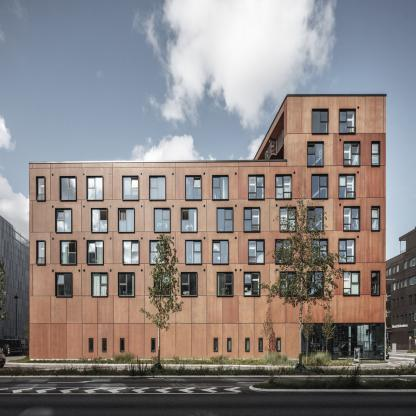Building Outline: (29, 94, 387, 360)
Dont: (256, 171, 351, 374), (139, 233, 184, 373), (302, 302, 336, 367), (259, 307, 287, 366)
Facade: (29, 159, 386, 360)
Floor: (29, 270, 386, 308), (29, 172, 386, 203), (29, 237, 386, 267), (29, 206, 386, 234), (287, 94, 386, 135), (287, 139, 386, 168)
Floor Slab: (29, 202, 386, 206), (29, 168, 386, 172), (29, 308, 386, 311), (29, 267, 386, 270), (29, 234, 386, 237), (287, 135, 386, 139)
Glass Wall: (302, 323, 385, 361)
Ground Floor: (29, 311, 386, 360)
Window: (312, 110, 328, 133), (340, 110, 356, 133), (244, 209, 260, 231), (217, 209, 233, 231), (181, 209, 197, 231), (154, 209, 170, 231), (118, 209, 134, 231), (91, 209, 107, 231), (249, 176, 265, 198), (340, 176, 356, 198), (276, 176, 292, 198), (312, 176, 328, 198), (308, 143, 324, 165), (344, 143, 360, 165), (88, 241, 103, 264), (124, 241, 139, 264), (280, 208, 295, 231), (56, 209, 71, 232), (61, 242, 76, 264), (151, 241, 166, 263), (186, 241, 201, 263), (214, 241, 229, 263), (249, 241, 264, 263), (344, 273, 359, 295), (312, 241, 327, 263), (339, 241, 354, 263), (344, 208, 359, 230), (308, 208, 323, 230), (217, 209, 232, 231), (123, 177, 138, 199), (150, 177, 165, 199), (186, 177, 201, 199), (213, 177, 228, 199), (276, 241, 291, 263), (280, 273, 295, 295), (308, 273, 323, 295), (61, 178, 75, 200), (88, 178, 102, 200), (57, 274, 71, 296), (93, 274, 107, 296), (120, 274, 134, 296), (156, 274, 170, 296), (183, 274, 197, 296), (219, 273, 233, 295), (246, 273, 260, 295), (38, 242, 45, 264), (37, 178, 44, 200), (372, 273, 379, 295), (372, 143, 379, 165), (372, 208, 379, 230), (276, 338, 281, 352), (245, 338, 250, 352), (151, 338, 156, 352), (120, 338, 125, 352), (102, 338, 107, 352), (89, 338, 93, 352), (259, 338, 263, 352), (227, 338, 231, 352), (214, 338, 218, 352)
Window Hole: (60, 240, 76, 264), (87, 240, 103, 264), (123, 240, 139, 264), (150, 240, 166, 264), (185, 240, 201, 264), (340, 174, 356, 198), (249, 240, 265, 264), (344, 272, 360, 296), (312, 240, 328, 264), (339, 240, 355, 264), (344, 207, 360, 231), (307, 207, 323, 231), (280, 207, 296, 231), (244, 208, 260, 232), (217, 208, 233, 232), (181, 208, 197, 232), (154, 208, 170, 232), (55, 208, 71, 232), (60, 176, 76, 200), (185, 175, 201, 199), (212, 175, 228, 199), (312, 174, 328, 198), (312, 109, 328, 133), (308, 142, 324, 166), (344, 142, 360, 166), (340, 109, 356, 133), (181, 272, 197, 296), (217, 272, 233, 296), (244, 272, 260, 296), (276, 240, 292, 264), (280, 272, 296, 296), (308, 272, 324, 296), (213, 240, 229, 263), (118, 208, 134, 231), (91, 208, 107, 231), (249, 175, 265, 198), (86, 176, 102, 199), (122, 176, 138, 199), (149, 176, 165, 199), (276, 175, 292, 198), (55, 273, 71, 296), (91, 273, 107, 296), (118, 273, 134, 296), (154, 273, 170, 296), (36, 176, 44, 200), (372, 141, 380, 165), (37, 241, 45, 264), (372, 272, 380, 295), (372, 207, 380, 230)
Window Outline: (339, 238, 356, 264), (312, 238, 329, 264), (275, 238, 292, 264), (185, 239, 202, 265), (55, 272, 72, 297), (280, 271, 297, 296), (307, 271, 324, 296), (343, 271, 360, 296), (248, 239, 265, 264), (212, 239, 229, 264), (339, 109, 356, 134), (59, 176, 76, 201), (86, 176, 103, 201), (153, 208, 170, 233), (185, 175, 202, 200), (212, 175, 229, 200), (243, 207, 260, 232), (275, 174, 292, 199), (343, 206, 360, 231), (307, 206, 324, 231), (344, 141, 361, 166), (307, 141, 324, 166), (312, 109, 329, 134), (149, 240, 166, 264), (122, 240, 139, 264), (87, 240, 104, 264), (91, 272, 107, 297), (118, 272, 134, 297), (154, 272, 170, 297), (55, 208, 71, 233), (91, 208, 107, 233), (118, 208, 134, 233), (181, 208, 197, 233), (122, 175, 138, 200), (149, 175, 165, 200), (217, 207, 233, 232), (248, 174, 264, 199), (312, 174, 328, 199), (339, 174, 355, 199), (280, 207, 296, 232), (181, 272, 197, 296), (217, 272, 233, 296), (244, 272, 260, 296), (60, 240, 76, 264), (371, 206, 381, 231), (371, 141, 381, 166), (371, 271, 380, 296), (36, 240, 45, 264), (36, 176, 44, 200)
